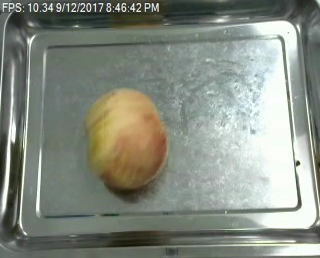Peach: (84, 88, 168, 191)
